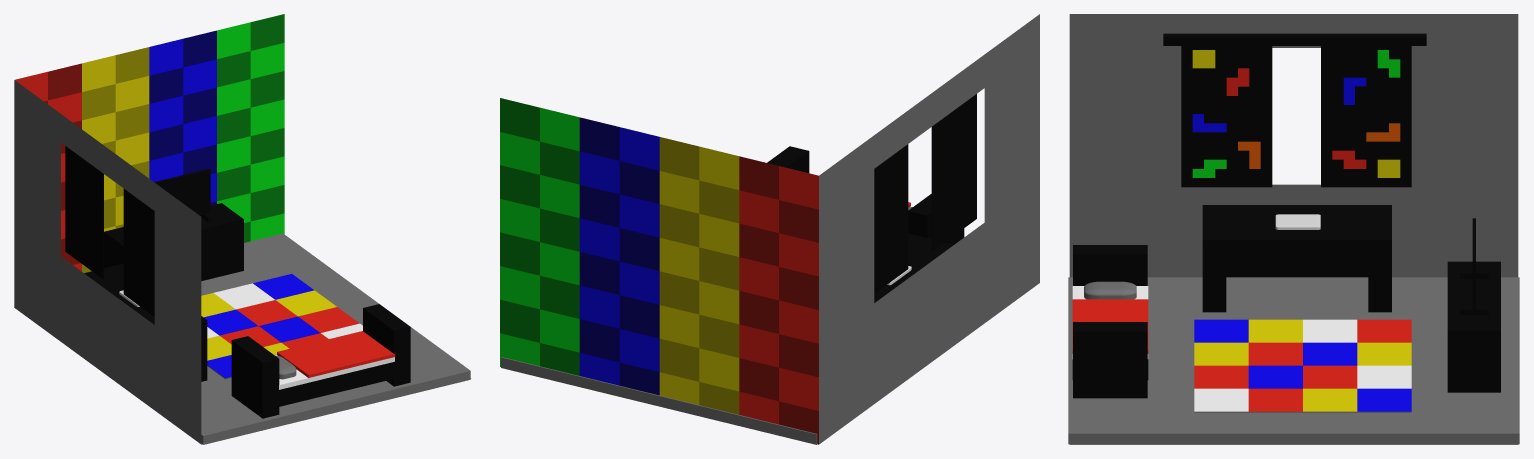
File: COMD3640 _KM_F25_Reginald_Fairley_Week3Model_01.fbx
3 renders of one model, left to right at view 1: azimuth 30°, elevation 25°; view 2: azimuth 150°, elevation 25°; view 3: azimuth 270°, elevation 25°, orthographic. The views are drawn at different scales.
Visible parts, largest first — view 1: Cube.006, Cube.007, Cube.001, Cube.003, Cube.004, Cube.010, Cube.009, Cube.002; view 2: Cube.006, Cube.007, Cube.009, Cube.010, Cube.001, Cube.003, Cube.002; view 3: Cube.007, Cube.001, Cube.006, Cube.002, Cube.009, Cube.010, Cube.003, Cube.004, Cube.008, Cube.005, Cube.
Part boxes in pixels (<box>): Cube.006: <box>15,14,362,379</box>; Cube.007: <box>14,80,201,444</box>; Cube.001: <box>201,233,470,444</box>; Cube.003: <box>231,304,410,418</box>; Cube.004: <box>104,168,243,280</box>; Cube.010: <box>65,146,103,279</box>; Cube.009: <box>123,189,154,316</box>; Cube.002: <box>84,263,207,381</box>; Cube.006: <box>500,98,818,444</box>; Cube.007: <box>819,14,1039,444</box>; Cube.009: <box>931,94,976,251</box>; Cube.010: <box>874,144,908,293</box>; Cube.001: <box>501,357,817,444</box>; Cube.003: <box>767,146,964,244</box>; Cube.002: <box>874,233,953,302</box>; Cube.007: <box>1069,14,1518,277</box>; Cube.001: <box>1068,277,1519,444</box>; Cube.006: <box>1194,319,1411,412</box>; Cube.002: <box>1202,205,1391,312</box>; Cube.009: <box>1181,40,1272,187</box>; Cube.010: <box>1321,40,1411,187</box>; Cube.003: <box>1072,245,1148,398</box>; Cube.004: <box>1447,218,1500,392</box>; Cube.008: <box>1163,33,1426,45</box>; Cube.005: <box>1275,214,1320,229</box>; Cube: <box>1069,444,1518,444</box>.
Bounding box in the file's own units: 1245 × 1004 × 1503.
